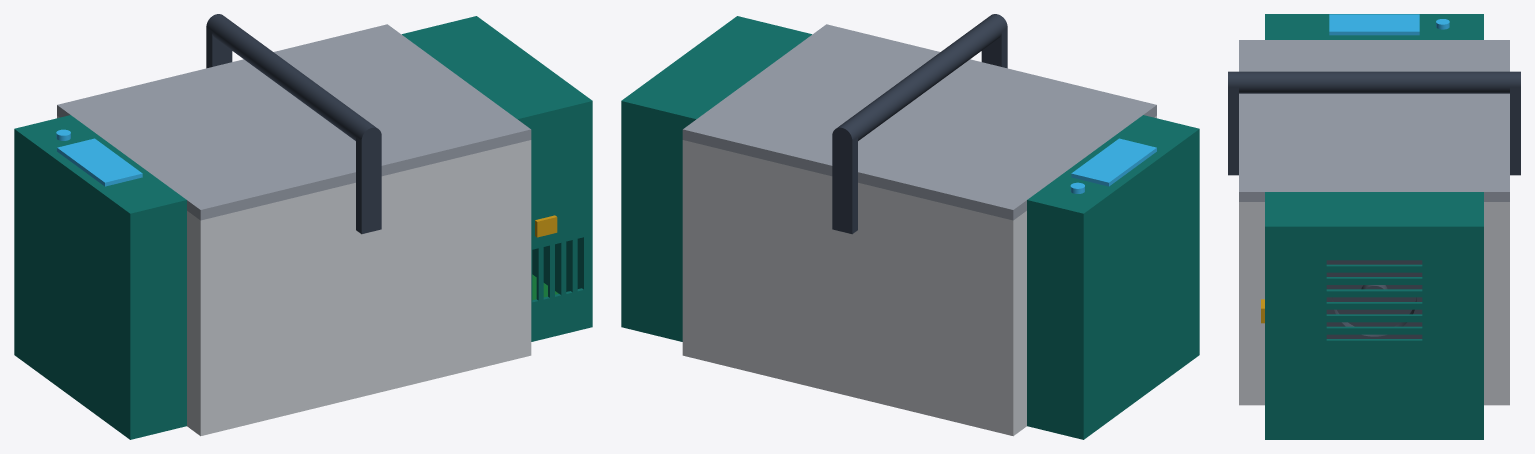
The picture shows the model from 3 angles, left to right: view 1: azimuth 30°, elevation 25°; view 2: azimuth 150°, elevation 25°; view 3: azimuth 270°, elevation 25°; orthographic projection. The views are drawn at different scales.
Visible parts, largest first — view 1: Outer shell, End housings (cooling head, battery bay), Lid with VIP plug and gasket, Bail handle and shoulder strap, E-paper display and alarm; view 2: Outer shell, End housings (cooling head, battery bay), Lid with VIP plug and gasket, Bail handle and shoulder strap, E-paper display and alarm; view 3: End housings (cooling head, battery bay), Lid with VIP plug and gasket, Outer shell, Bail handle and shoulder strap, Hot-side heat sink and fan, E-paper display and alarm.
Boxes of the visible parts, bbox=[...] form: Outer shell: bbox=[57, 115, 531, 436]; End housings (cooling head, battery bay): bbox=[14, 16, 592, 439]; Lid with VIP plug and gasket: bbox=[57, 24, 531, 220]; Bail handle and shoulder strap: bbox=[206, 14, 381, 234]; E-paper display and alarm: bbox=[56, 129, 142, 186]; Outer shell: bbox=[682, 115, 1156, 436]; End housings (cooling head, battery bay): bbox=[621, 16, 1199, 439]; Lid with VIP plug and gasket: bbox=[682, 24, 1156, 220]; Bail handle and shoulder strap: bbox=[832, 14, 1007, 234]; E-paper display and alarm: bbox=[1070, 138, 1156, 193]; End housings (cooling head, battery bay): bbox=[1265, 14, 1483, 439]; Lid with VIP plug and gasket: bbox=[1239, 40, 1509, 201]; Outer shell: bbox=[1239, 202, 1509, 405]; Bail handle and shoulder strap: bbox=[1228, 71, 1520, 175]; Hot-side heat sink and fan: bbox=[1326, 260, 1422, 338]; E-paper display and alarm: bbox=[1329, 14, 1449, 35].
Bounding box in the file's own units: 0.368 × 0.207 × 0.214.
